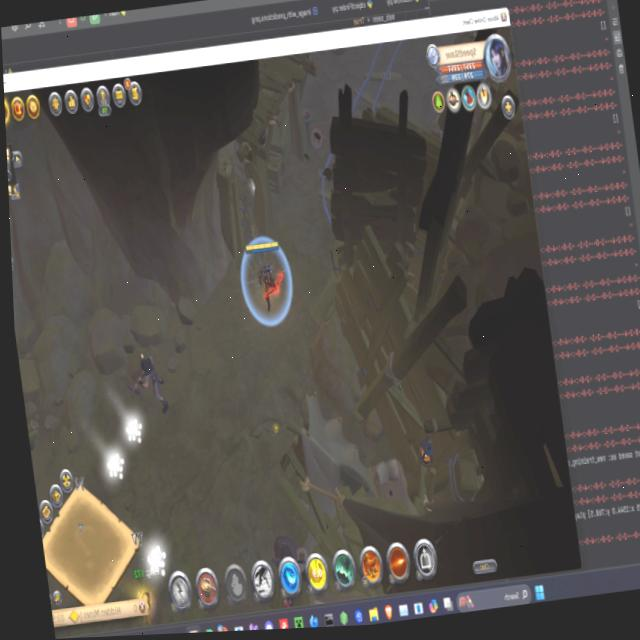ore: (126, 343, 174, 421)
red: (242, 232, 293, 319)
stone: (139, 536, 169, 578), (101, 443, 130, 486), (120, 410, 146, 450)
